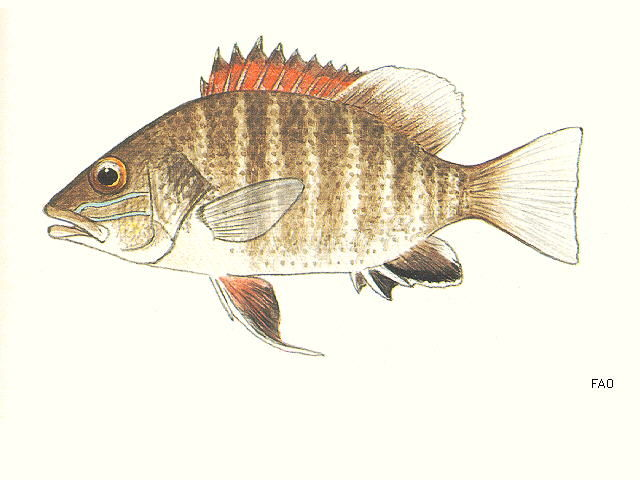fish: (43, 35, 583, 356)
